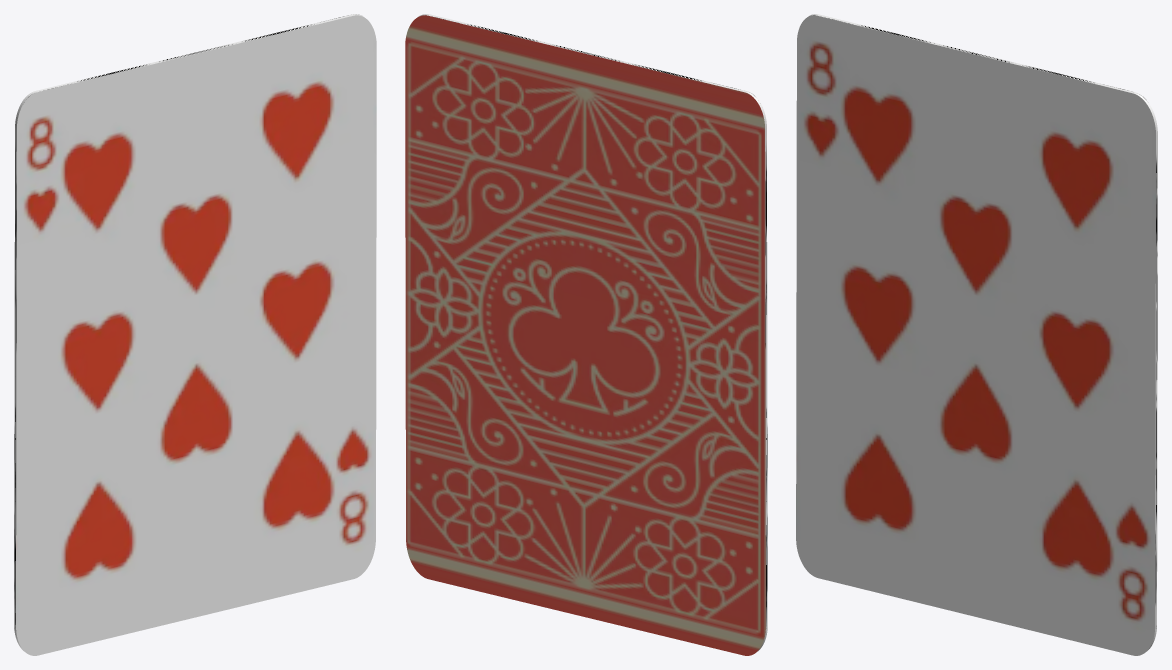
The model's file is 8corazones.glb.
3 views of the same model, side by side, from view 1: azimuth 30°, elevation 25°; view 2: azimuth 150°, elevation 25°; view 3: azimuth 330°, elevation 25° (orthographic).
Parts seen in each view (by area): view 1: Cubo.037; view 2: Cubo.037; view 3: Cubo.037.
Part boxes in pixels (left/top/right/bottom): Cubo.037: left=14, top=14, right=376, bottom=655; Cubo.037: left=405, top=14, right=767, bottom=655; Cubo.037: left=796, top=14, right=1157, bottom=655.
Bounding box in the file's own units: 7.36 × 11 × 0.065.
Materials: 3 (3 with a texture image).
